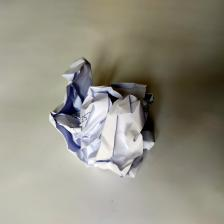Paper: (38, 57, 158, 186)
